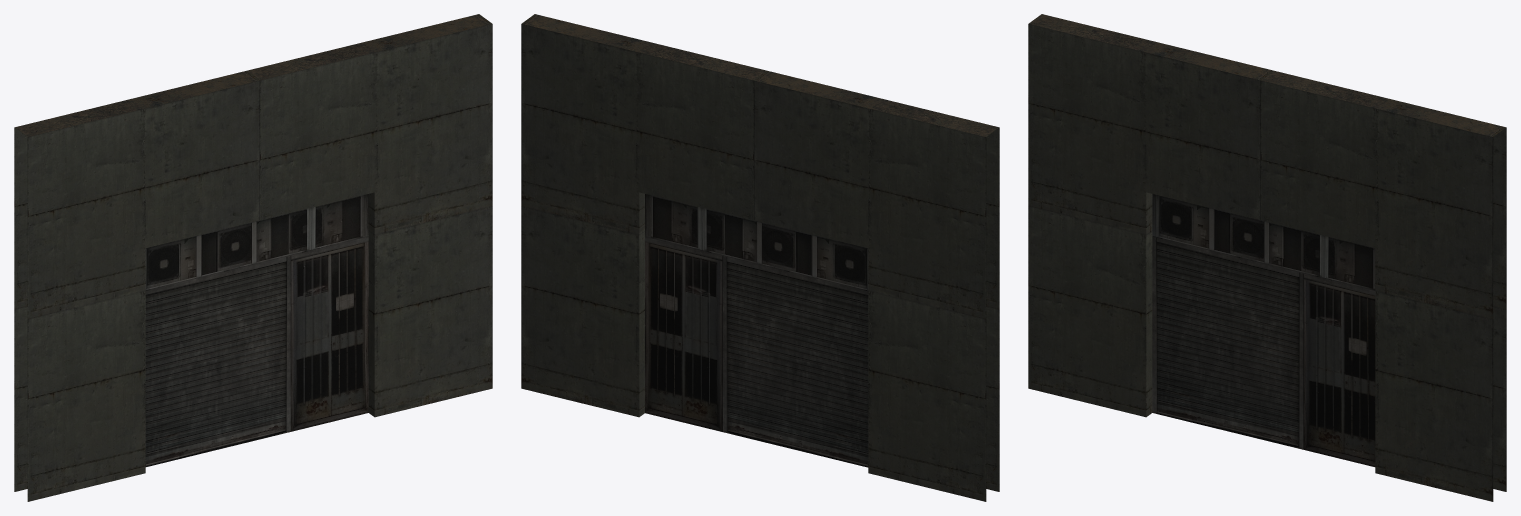
The model's file is garage_door_frame_rg_1.obj.
3 renders of one model, left to right at view 1: azimuth 30°, elevation 25°; view 2: azimuth 150°, elevation 25°; view 3: azimuth 330°, elevation 25°, orthographic.
Parts seen in each view (by area): view 1: garage_door_frame_rg_1, garage_door_hr_1; view 2: garage_door_frame_rg_1, garage_door_hr_1; view 3: garage_door_frame_rg_1, garage_door_hr_1.
Boxes of the visible parts, x1=… form: garage_door_frame_rg_1: x1=14, y1=14, x2=492, y2=501; garage_door_hr_1: x1=145, y1=194, x2=368, y2=466; garage_door_frame_rg_1: x1=521, y1=14, x2=999, y2=501; garage_door_hr_1: x1=645, y1=194, x2=868, y2=467; garage_door_frame_rg_1: x1=1028, y1=14, x2=1506, y2=501; garage_door_hr_1: x1=1152, y1=194, x2=1375, y2=466.
Bounding box in the file's own units: 8 × 6 × 0.4.
